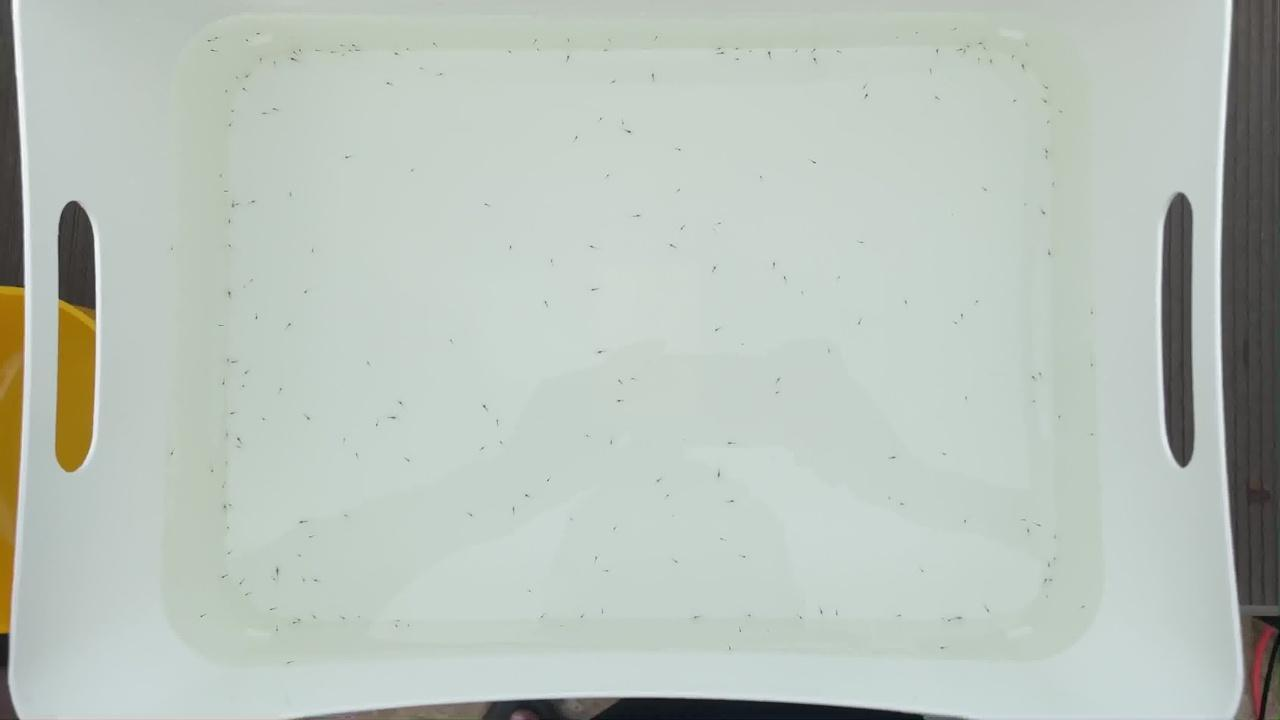shrimp: (1042, 589, 1055, 597), (1045, 578, 1058, 586), (938, 644, 951, 652), (884, 489, 897, 497), (1088, 362, 1101, 370), (971, 296, 984, 304), (725, 440, 738, 448), (653, 473, 666, 481), (535, 611, 548, 619), (463, 511, 476, 519), (497, 440, 510, 448), (495, 417, 508, 425), (608, 439, 621, 447), (594, 346, 607, 354), (1041, 118, 1054, 126), (860, 79, 873, 87), (808, 46, 821, 54), (790, 46, 803, 54), (748, 46, 761, 54), (630, 213, 643, 221), (673, 146, 686, 154), (414, 63, 427, 71), (351, 46, 364, 54), (251, 30, 264, 38), (227, 201, 240, 209), (166, 451, 179, 459), (207, 467, 220, 475), (220, 501, 233, 509), (243, 589, 256, 597), (272, 561, 285, 569), (390, 622, 403, 630), (383, 412, 396, 420), (480, 202, 493, 210), (588, 285, 601, 293), (745, 611, 757, 619), (1089, 306, 1101, 314), (524, 490, 536, 498), (834, 273, 846, 281), (679, 224, 691, 232), (252, 52, 264, 60), (219, 185, 231, 193), (225, 295, 237, 303), (219, 484, 231, 492), (1078, 604, 1091, 611), (1040, 574, 1053, 581), (1043, 557, 1056, 564), (1051, 553, 1064, 560), (1052, 529, 1065, 536), (1023, 530, 1036, 537), (1019, 517, 1032, 524), (960, 520, 973, 527), (982, 600, 995, 607), (952, 613, 965, 620), (943, 617, 956, 624), (831, 611, 844, 618), (815, 605, 828, 612), (793, 616, 806, 623), (724, 646, 737, 653), (734, 626, 747, 633), (687, 613, 700, 620), (737, 554, 750, 561), (714, 534, 727, 541), (672, 557, 685, 564), (894, 497, 907, 504), (887, 453, 900, 460), (960, 391, 973, 398), (1088, 430, 1101, 437), (1053, 413, 1066, 420), (1030, 397, 1043, 404), (1028, 375, 1041, 382), (1035, 370, 1048, 377), (952, 319, 965, 326), (899, 300, 912, 307), (854, 319, 867, 326), (774, 375, 787, 382), (768, 397, 781, 404), (728, 497, 741, 504), (662, 488, 675, 495), (600, 564, 613, 571), (593, 611, 606, 618), (577, 610, 590, 617), (567, 519, 580, 526), (507, 509, 520, 516), (541, 476, 554, 483), (476, 445, 489, 452), (481, 402, 494, 409), (614, 396, 627, 403), (614, 381, 627, 388), (627, 374, 640, 381), (711, 330, 724, 337), (1043, 252, 1056, 259), (1034, 203, 1047, 210), (1047, 175, 1060, 182), (978, 187, 991, 194), (1040, 153, 1053, 160), (1041, 143, 1054, 150), (1039, 94, 1052, 101), (1038, 83, 1051, 90), (1007, 96, 1020, 103), (1018, 62, 1031, 69), (1023, 39, 1036, 46), (982, 45, 995, 52), (974, 37, 987, 44), (961, 41, 974, 48), (960, 48, 973, 55), (954, 47, 967, 54), (949, 25, 962, 32), (931, 49, 944, 56), (924, 66, 937, 73), (932, 94, 945, 101), (910, 30, 923, 37), (836, 50, 849, 57), (807, 53, 820, 60), (764, 48, 777, 55), (733, 59, 746, 66), (715, 51, 728, 58), (715, 46, 728, 53), (755, 174, 768, 181), (857, 237, 870, 244), (795, 286, 808, 293), (770, 259, 783, 266), (707, 269, 720, 276), (714, 218, 727, 225), (669, 245, 682, 252), (674, 186, 687, 193), (602, 173, 615, 180), (596, 116, 609, 123), (626, 128, 639, 135), (619, 118, 632, 125), (609, 79, 622, 86), (643, 72, 656, 79), (649, 34, 662, 41), (605, 40, 618, 47), (600, 49, 613, 56), (564, 38, 577, 45), (535, 47, 548, 54), (532, 38, 545, 45), (504, 49, 517, 56), (404, 42, 417, 49), (389, 48, 402, 55), (380, 81, 393, 88), (348, 39, 361, 46), (343, 48, 356, 55), (339, 51, 352, 58), (327, 49, 340, 56), (311, 47, 324, 54), (296, 47, 309, 54), (288, 49, 301, 56), (289, 59, 302, 66), (271, 61, 284, 68), (243, 36, 256, 43), (207, 50, 220, 57), (208, 35, 221, 42), (244, 71, 257, 78), (232, 75, 245, 82), (238, 85, 251, 92), (217, 83, 230, 90), (225, 107, 238, 114), (255, 112, 268, 119), (267, 107, 280, 114), (344, 153, 357, 160), (283, 187, 296, 194), (249, 198, 262, 205), (225, 221, 238, 228), (168, 247, 181, 254), (224, 241, 237, 248), (238, 282, 251, 289), (245, 276, 258, 283), (251, 315, 264, 322), (284, 320, 297, 327), (302, 287, 315, 294), (308, 246, 321, 253), (222, 355, 235, 362), (218, 381, 231, 388), (240, 364, 253, 371), (306, 414, 319, 421), (258, 414, 271, 421), (225, 406, 238, 413), (219, 433, 232, 440), (234, 436, 247, 443), (234, 441, 247, 448), (216, 462, 229, 469), (222, 529, 235, 536), (225, 553, 238, 560), (239, 578, 252, 585), (268, 580, 281, 587), (312, 581, 325, 588), (294, 554, 307, 561), (305, 530, 318, 537), (340, 516, 353, 523), (395, 617, 408, 624), (400, 624, 413, 631), (355, 612, 368, 619), (308, 614, 321, 621), (289, 618, 302, 625), (272, 628, 285, 635), (267, 609, 280, 616), (286, 657, 299, 664), (354, 454, 367, 461), (401, 458, 414, 465), (373, 424, 386, 431), (394, 398, 407, 405), (362, 356, 375, 363), (445, 341, 458, 348), (542, 300, 555, 307), (504, 244, 517, 251), (589, 243, 602, 250), (570, 486, 583, 493), (580, 434, 593, 441), (1033, 522, 1045, 529), (889, 611, 901, 618), (917, 569, 929, 576), (939, 453, 951, 460), (956, 311, 968, 318), (823, 351, 835, 358), (712, 471, 724, 478), (612, 525, 624, 532), (590, 554, 602, 561), (524, 586, 536, 593), (1055, 109, 1067, 116), (1011, 49, 1023, 56), (984, 60, 996, 67), (973, 56, 985, 63), (861, 92, 873, 99), (734, 45, 746, 52), (812, 159, 824, 166), (778, 270, 790, 277), (573, 136, 585, 143), (563, 55, 575, 62), (435, 70, 447, 77), (429, 41, 441, 48), (336, 41, 348, 48), (203, 38, 215, 45), (225, 120, 237, 127), (408, 170, 420, 177), (236, 200, 248, 207), (214, 169, 226, 176), (230, 358, 242, 365), (236, 385, 248, 392), (274, 384, 286, 391), (219, 575, 231, 582), (197, 616, 209, 623), (297, 578, 309, 585), (297, 516, 309, 523), (341, 616, 353, 623), (297, 616, 309, 623), (341, 436, 353, 443), (546, 257, 558, 264)
